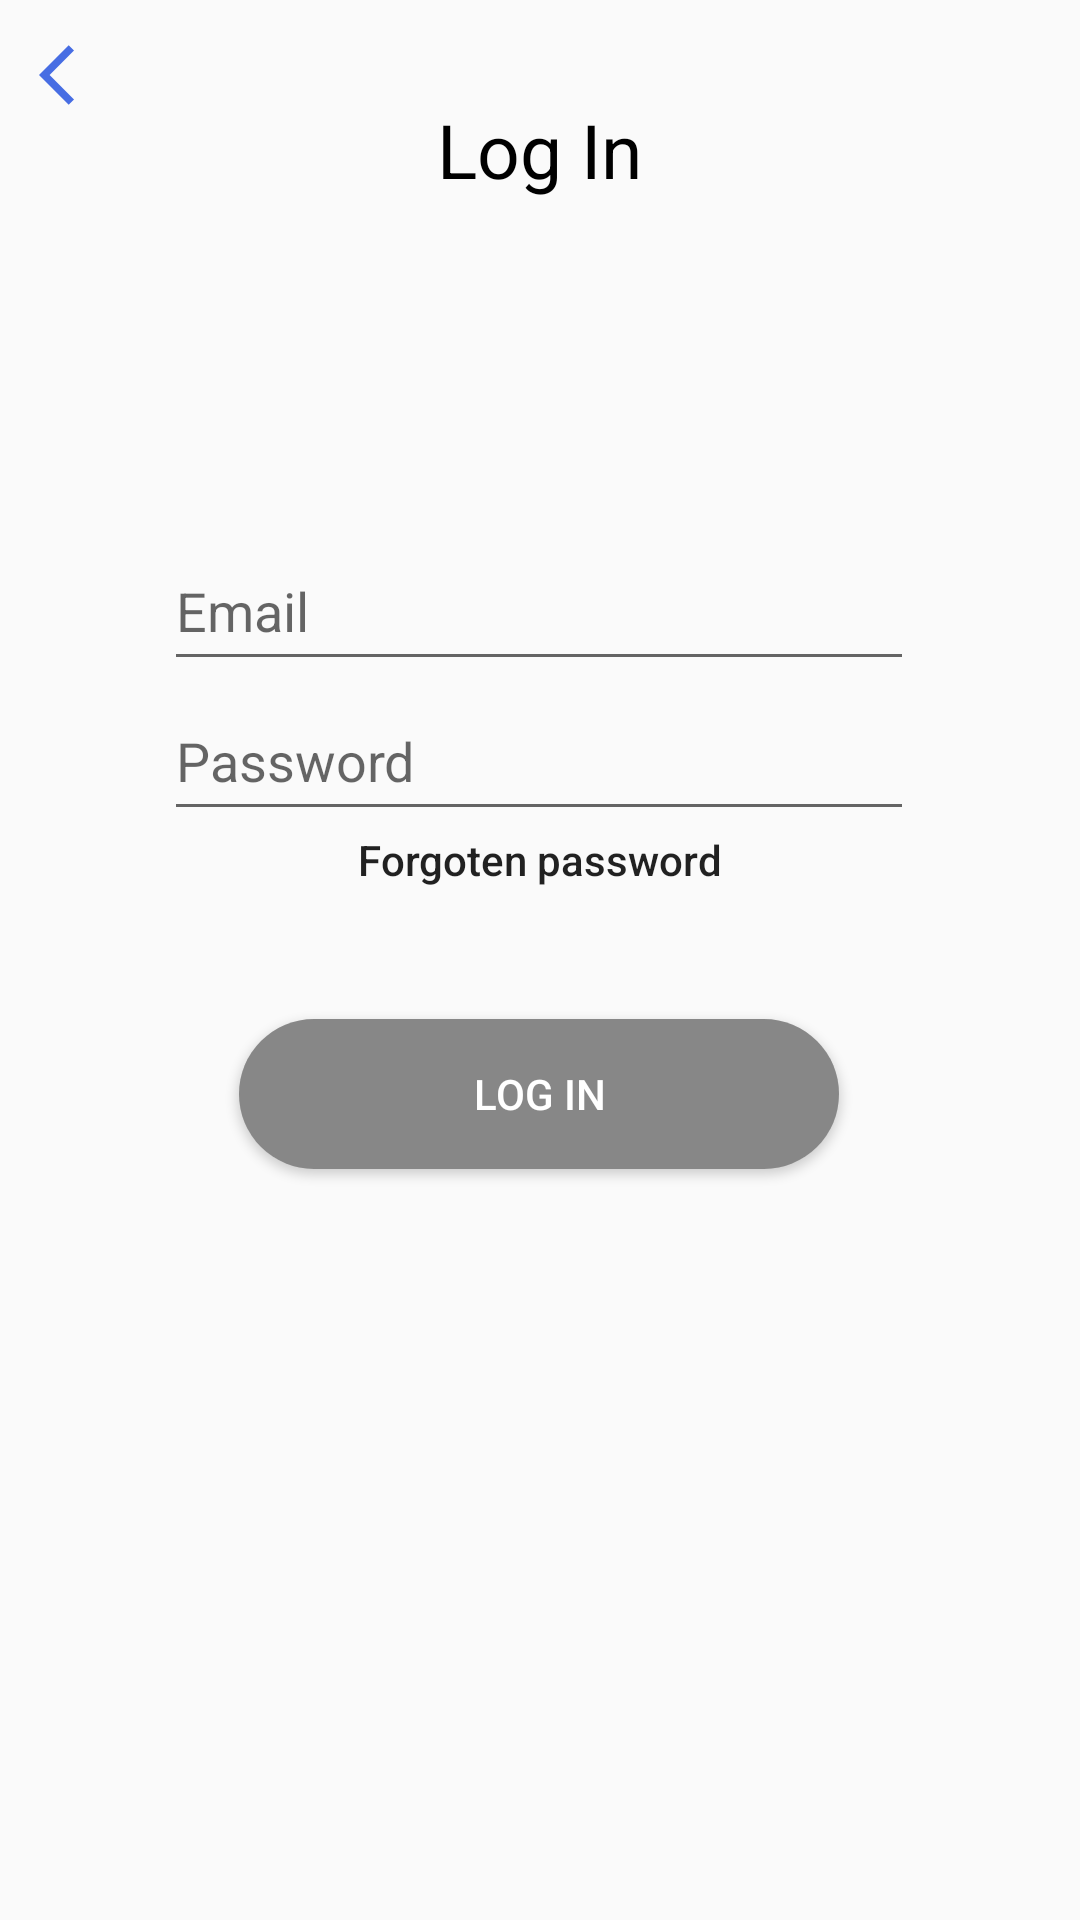

Screen size 1080×1920. Icon name, then its center in pixels as (x,y):
arrow back: (56,75)
